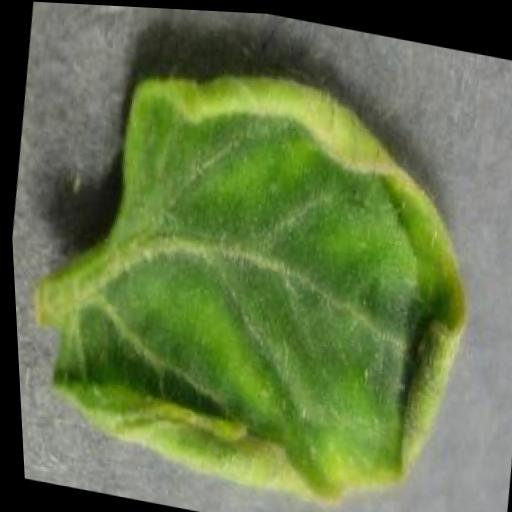Yellow Leaf Curl Virus: (25, 33, 504, 512)
